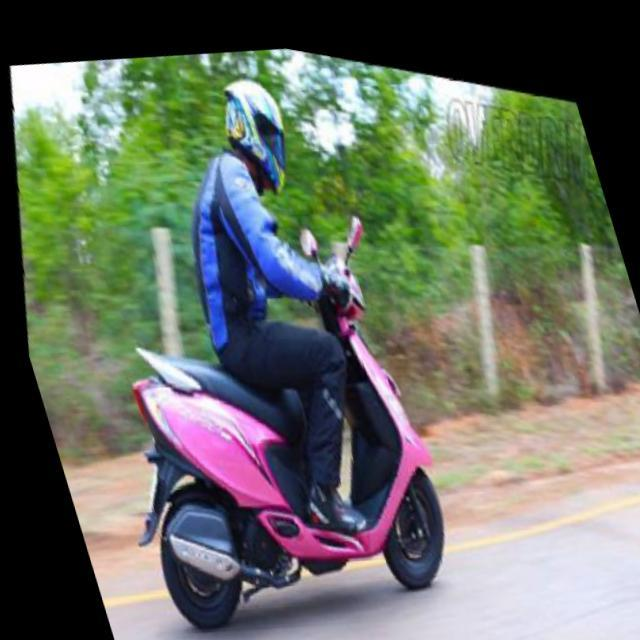Helmet: (212, 68, 296, 206)
